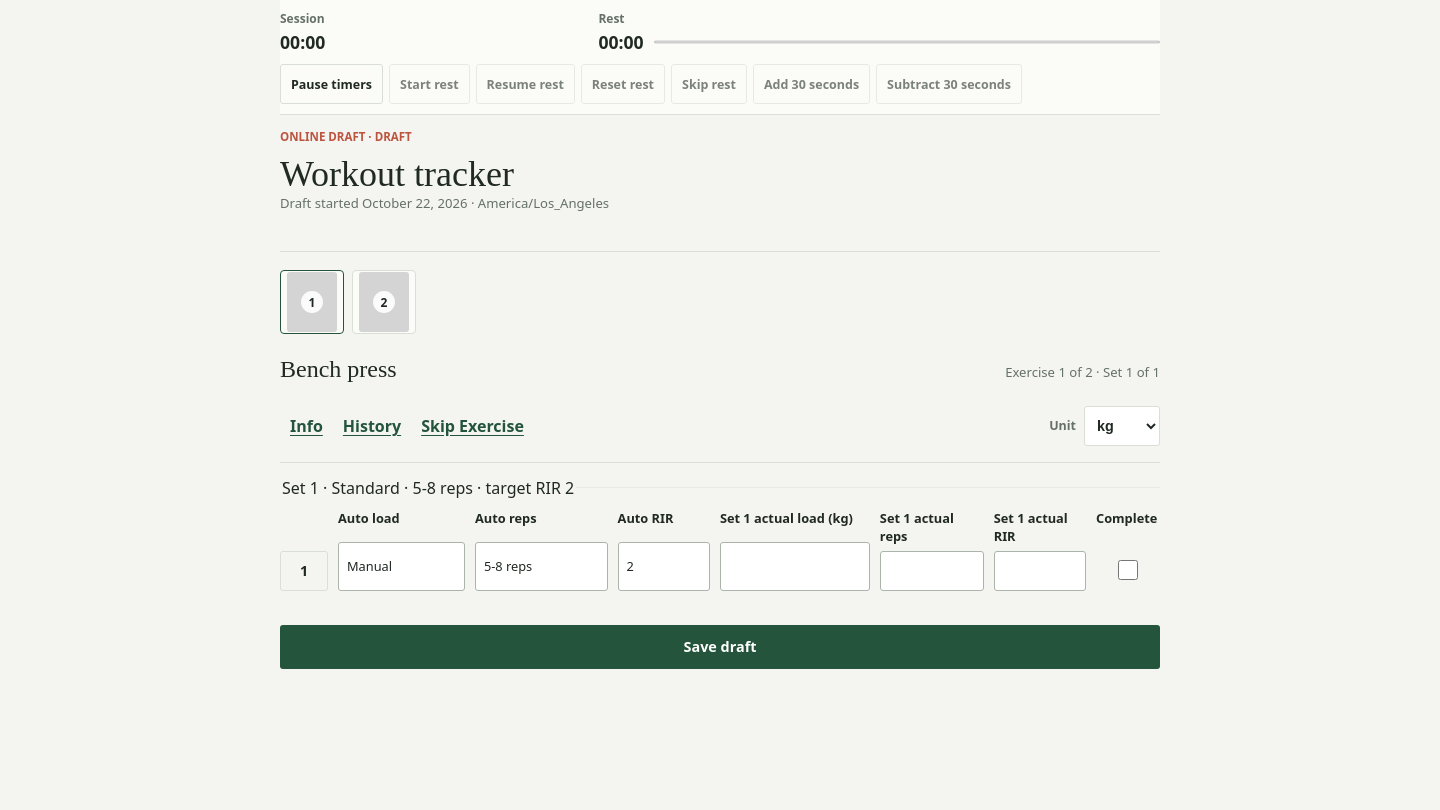
Test case: selects a failure set in the type modal and rejects nonzero actual RIR
Check: the heading "Bench press" is shown, box [280,356,397,383]
Click the button named "Set 1 type" at x=304, y=571, box [280,551,328,591]
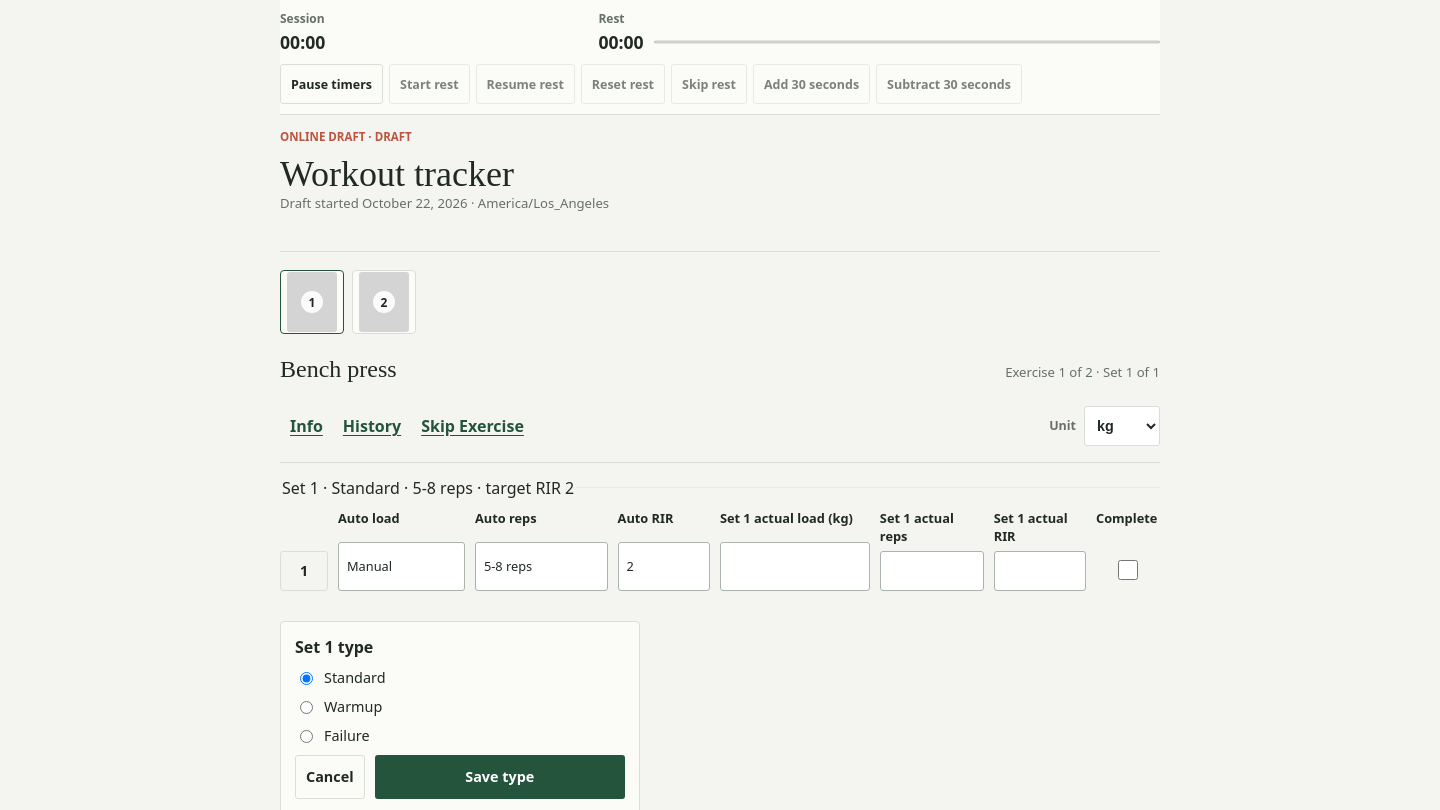
Click the radio button labelled "Failure" at x=306, y=737, box [300,730,313,743]
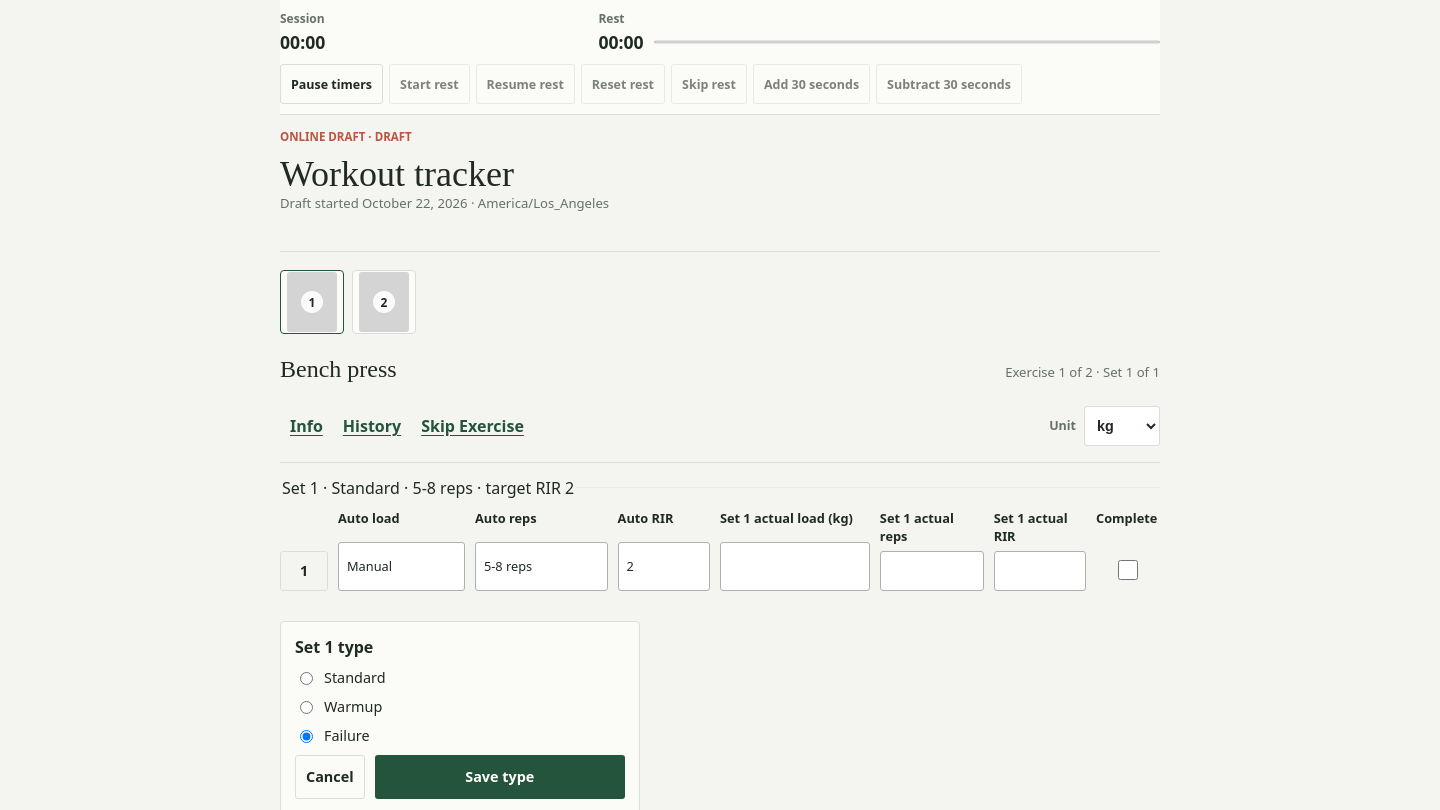
Click the button "Save type" at x=500, y=777, box [375,755,625,799]
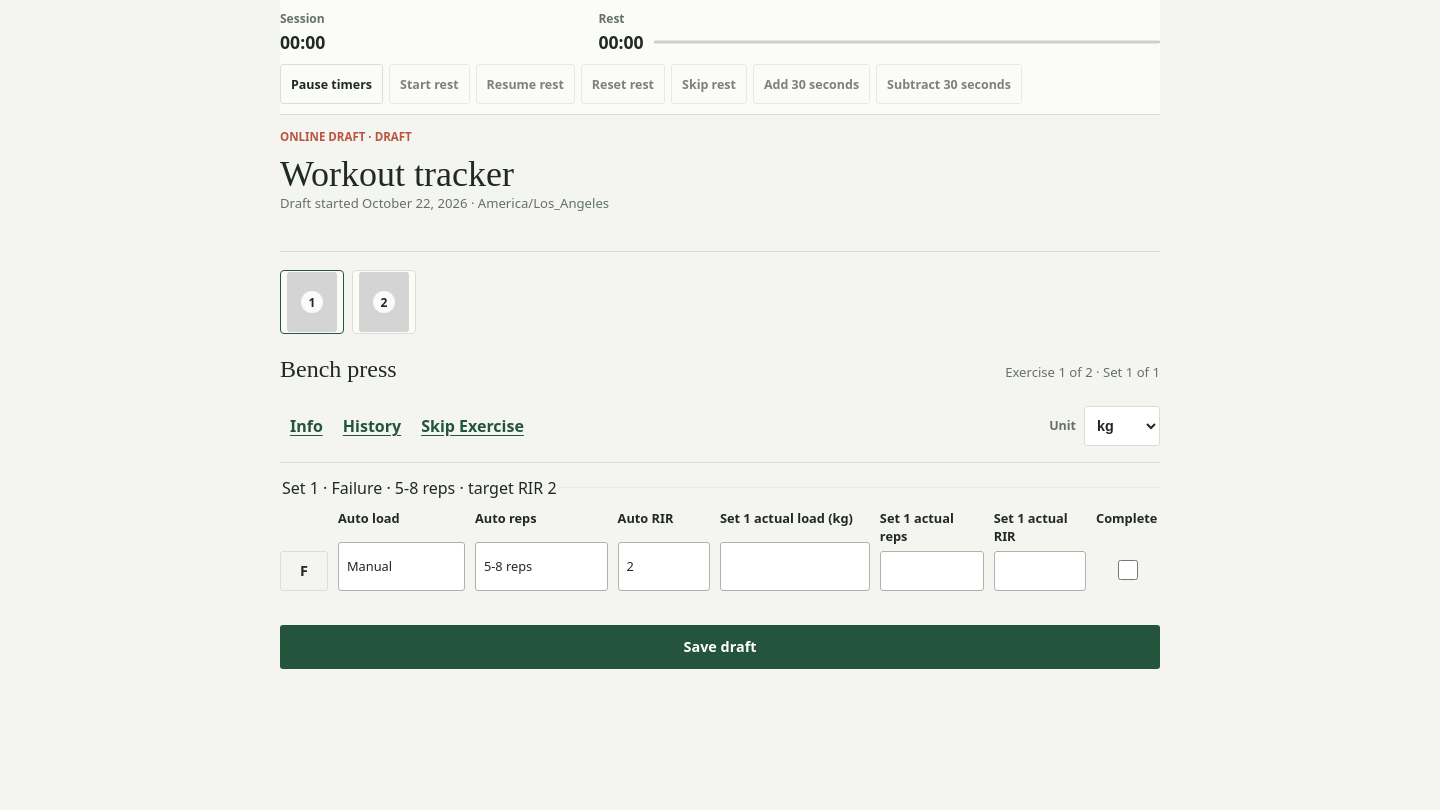
Check: the text "Set 1 · Failure · 5-8 reps · target RIR 2" is shown, box [280,477,558,499]
Type "0" into the number field labelled "Set 1 actual load (kg)" at x=795, y=566, box [720,542,870,591]
Type "6" into the number field labelled "Set 1 actual reps" at x=932, y=571, box [880,551,984,591]
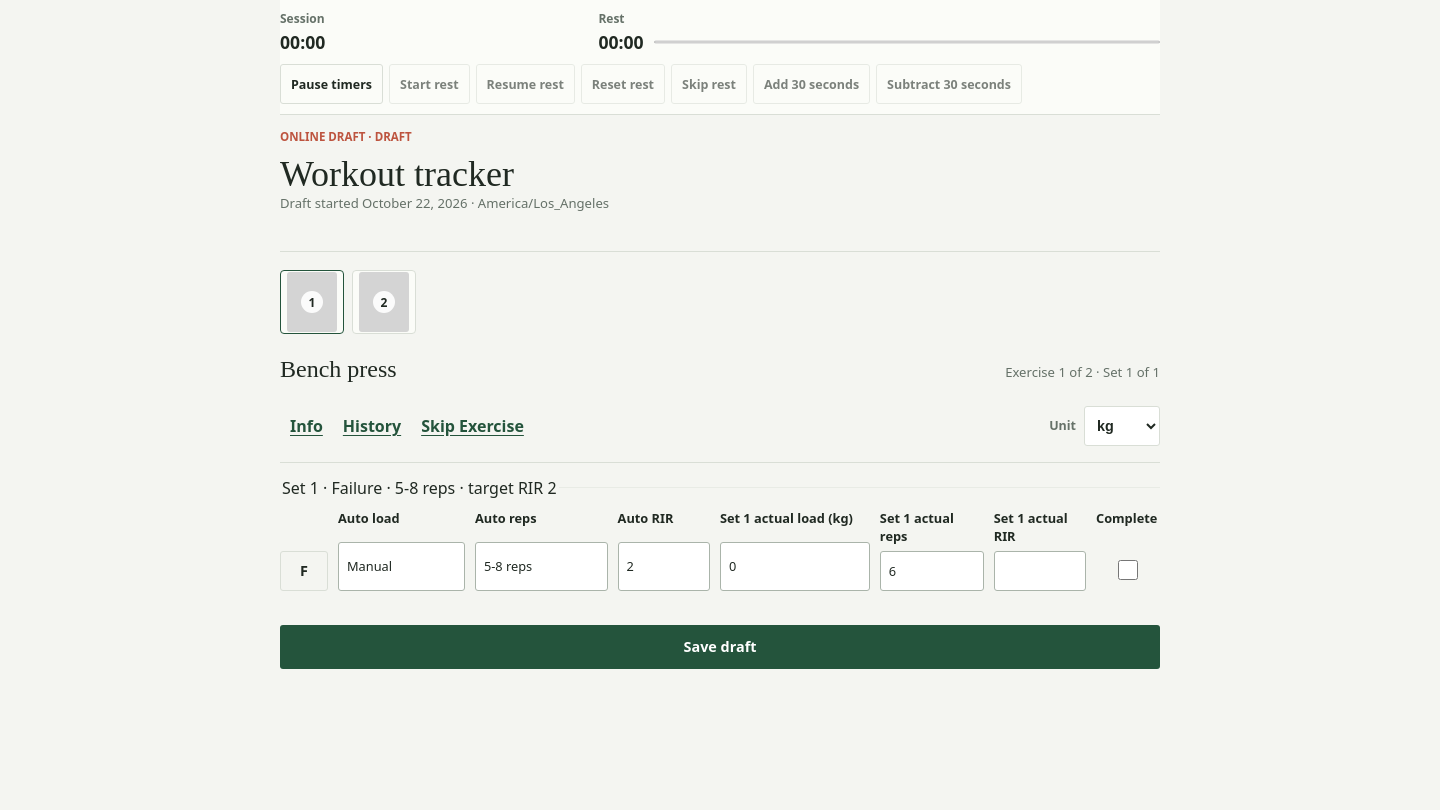
Type "1" into the number field labelled "Set 1 actual RIR" at x=1040, y=571, box [994,551,1086,591]
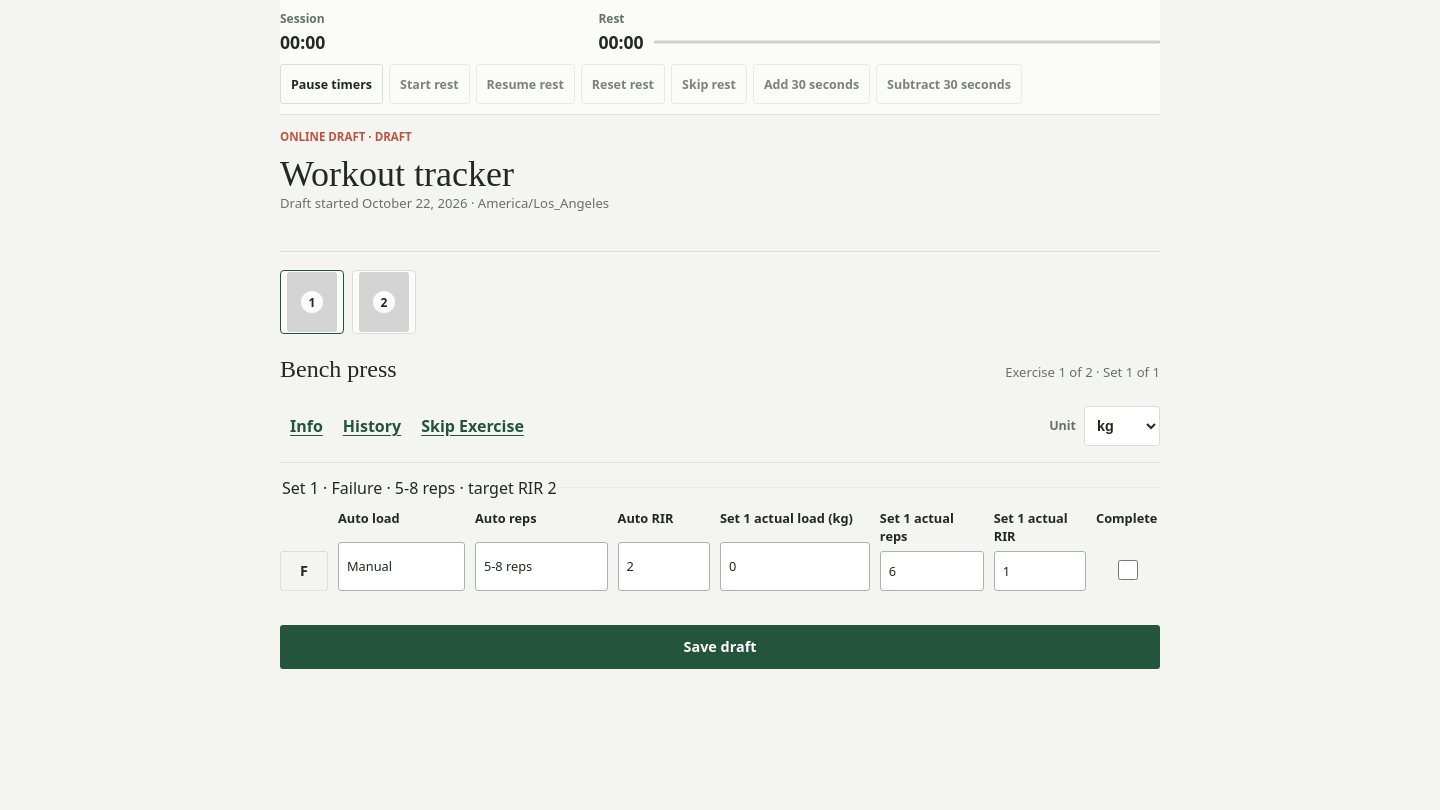
Click the checkbox named "Complete set 1" at x=1128, y=570, box [1118,552,1138,588]
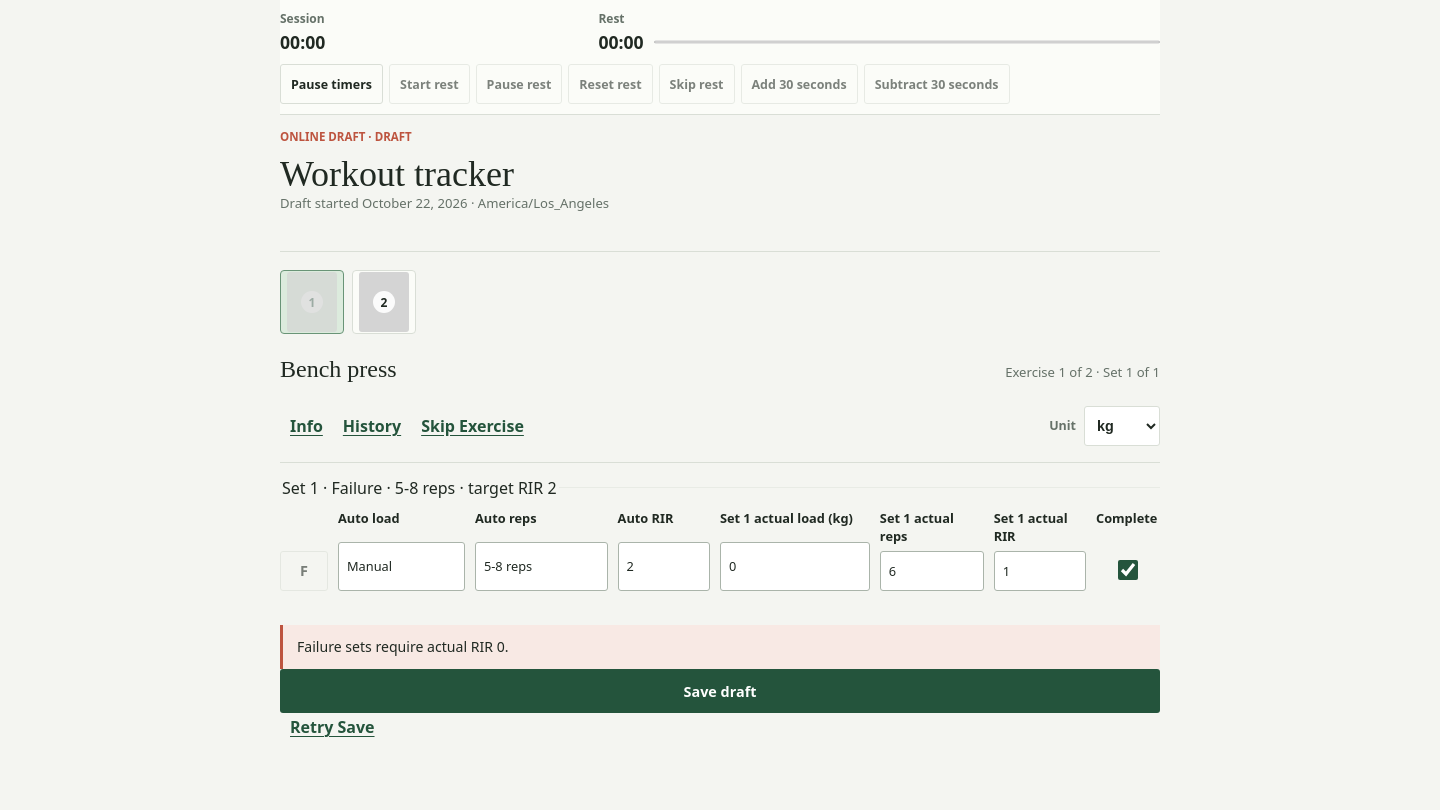
Check: the message shows "Failure sets require actual RIR 0", box [297,637,508,656]
